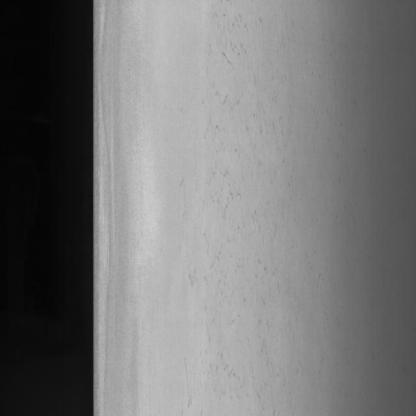silk_spot: (194, 0, 296, 356)
